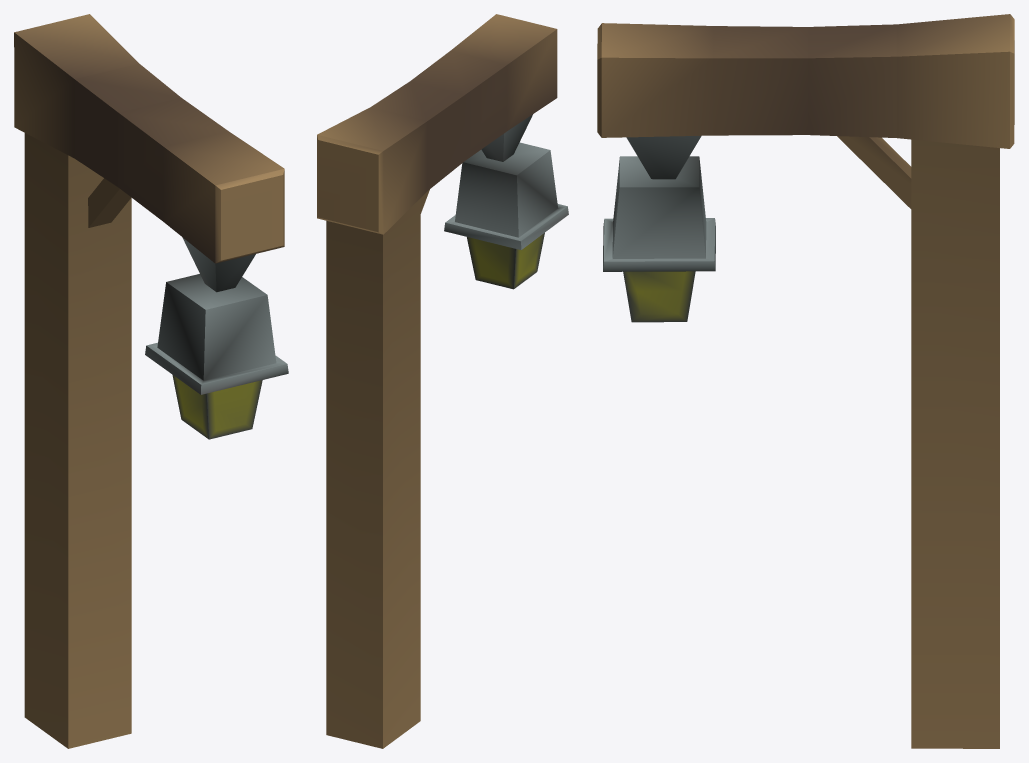
File: LightingPoles01.fbx
3 renders of one model, left to right at view 1: azimuth 30°, elevation 25°; view 2: azimuth 150°, elevation 25°; view 3: azimuth 270°, elevation 25°, orthographic. The views are drawn at different scales.
Visible parts, largest first — view 1: LightingPoles01_LOD0; view 2: LightingPoles01_LOD0; view 3: LightingPoles01_LOD0.
Boxes of the visible parts, bbox=[...] form: LightingPoles01_LOD0: bbox=[14, 14, 288, 748]; LightingPoles01_LOD0: bbox=[317, 14, 568, 748]; LightingPoles01_LOD0: bbox=[597, 14, 1014, 748].
Size of what is drawn, in the model's own units: 30.78 by 226 by 122.
